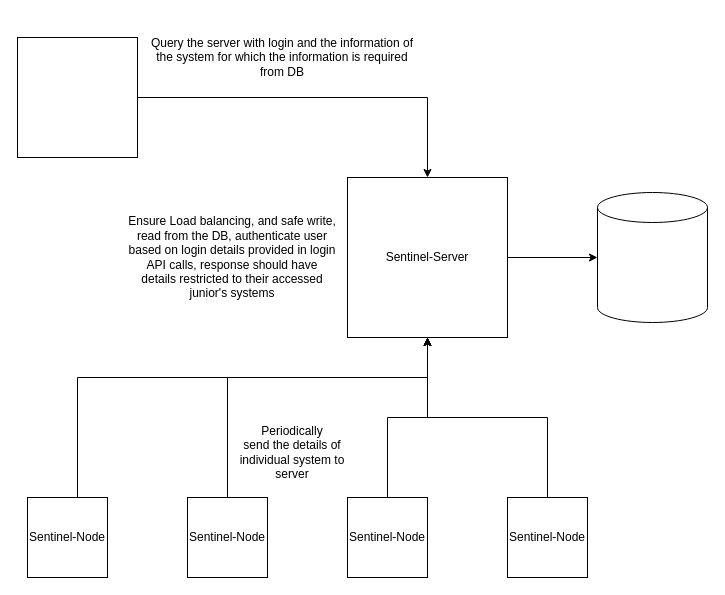
The diagram is 725 pixels wide and 595 high, and some of its shapes have lost their labels. The centre of each missing label's shape, as x and y in pixels:
Database: the point at 652,257
Sentinel-Dash: the point at 77,97
